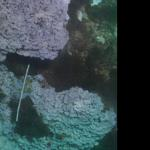dead: (2, 1, 115, 147)
